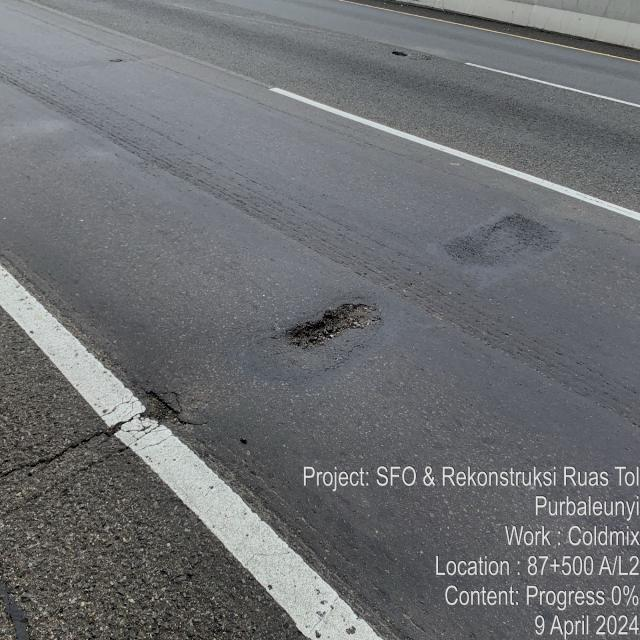Buraco: (278, 300, 386, 354), (388, 48, 412, 59)
